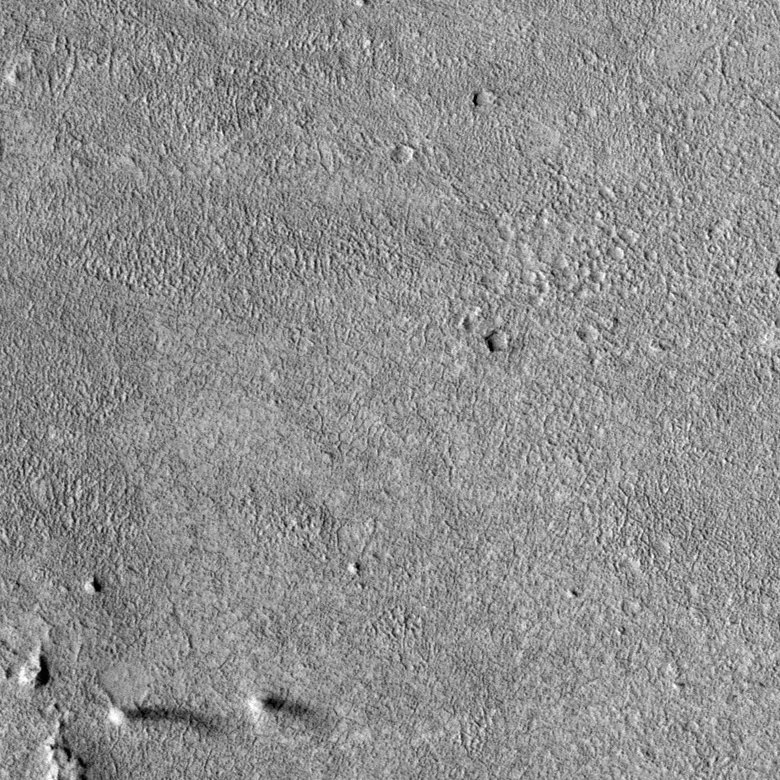dust_devil: (107, 704, 230, 738), (246, 695, 317, 726)
